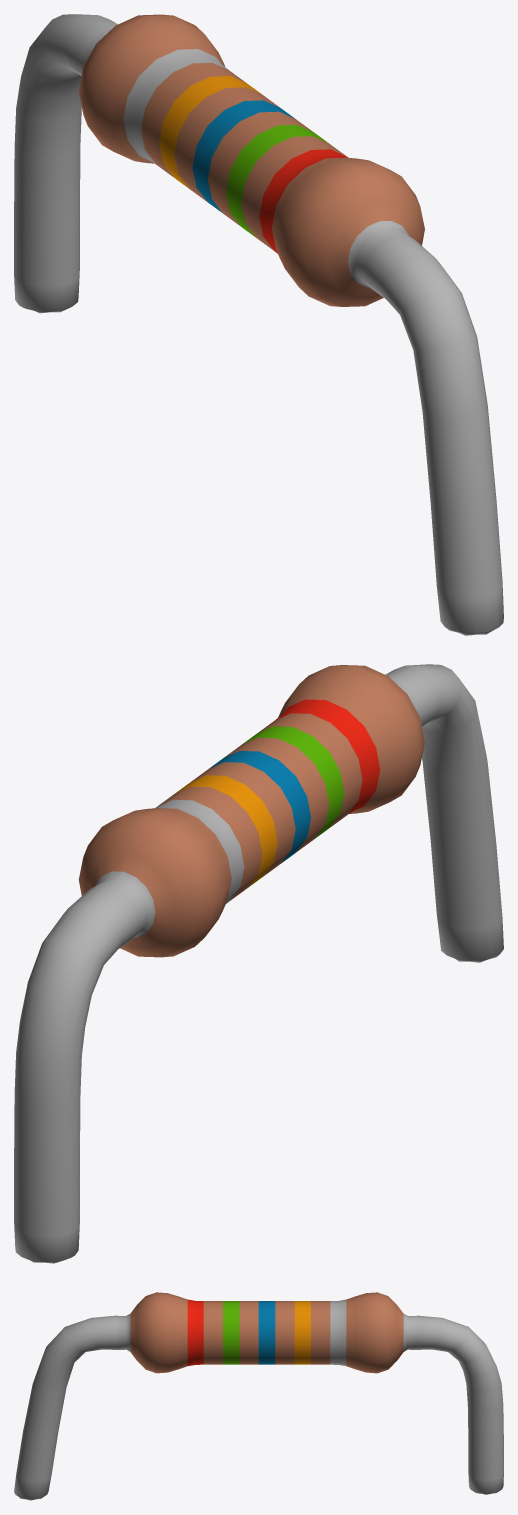
File: resistor.fbx
3 views of the same model, one above another, from view 1: azimuth 30°, elevation 25°; view 2: azimuth 150°, elevation 25°; view 3: azimuth 270°, elevation 25° (orthographic). The views are drawn at different scales.
Visible parts, largest first — view 1: resistor1; view 2: resistor1; view 3: resistor1.
Part boxes in pixels (x1,y1,x2,y2): resistor1: [14, 14, 503, 635]; resistor1: [14, 664, 503, 1263]; resistor1: [14, 1292, 503, 1500].
Bounding box in the file's own units: 17.91 × 48.26 × 108.
